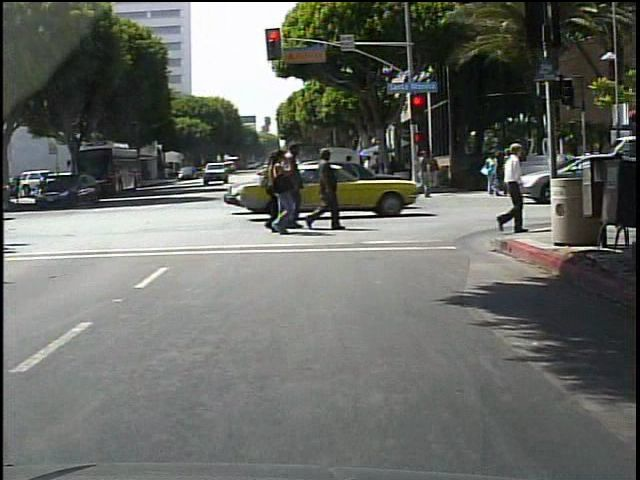person: (488, 139, 530, 239)
